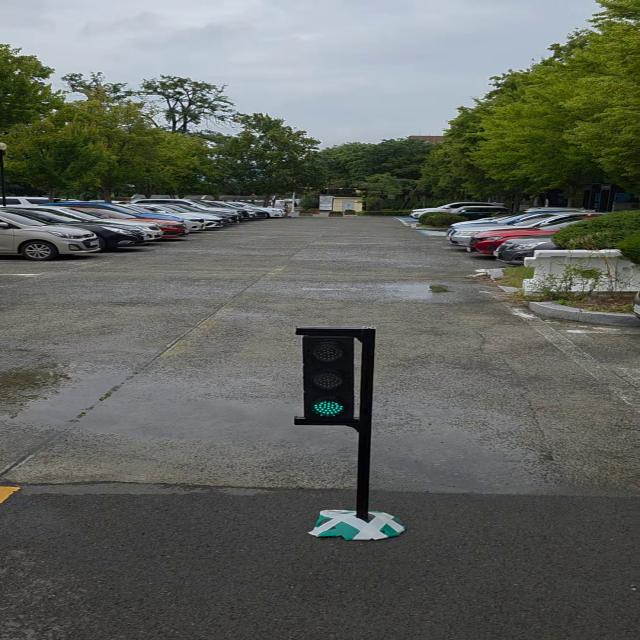green: (301, 330, 367, 425)
